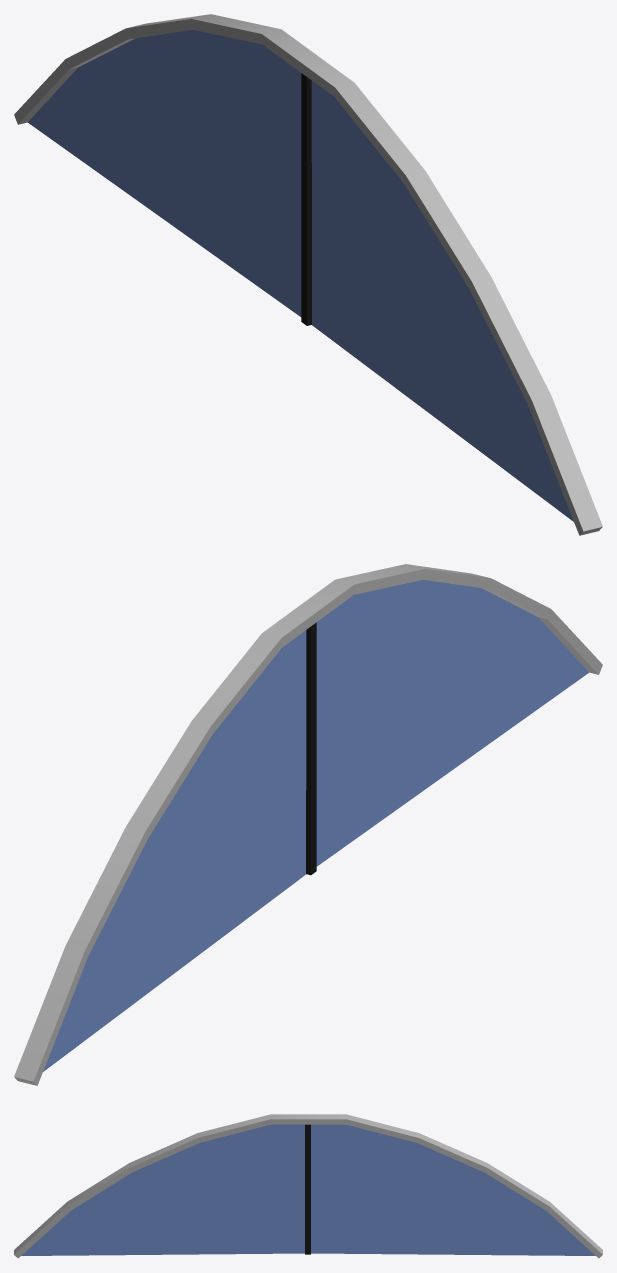
Rendered from RailRainbow.fbx.
The picture shows the model from 3 angles, top to bottom: view 1: azimuth 30°, elevation 25°; view 2: azimuth 150°, elevation 25°; view 3: azimuth 270°, elevation 25°; orthographic projection. The views are drawn at different scales.
Visible parts, largest first — view 1: RainbowRail; view 2: RainbowRail; view 3: RainbowRail.
Boxes of the visible parts, x1,y1,x2,y2 form: RainbowRail: (14,14,602,535); RainbowRail: (14,564,602,1085); RainbowRail: (14,1114,602,1258).
Bounding box in the file's own units: 0.2005 × 2.63 × 10.09.
